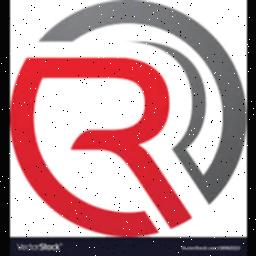r: (10, 34, 212, 236)
